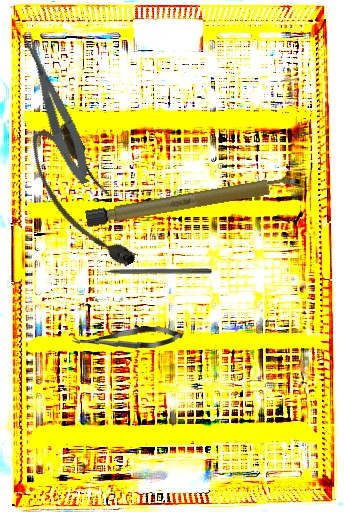Cannula: (19, 116, 146, 283)
Micro Scissor: (16, 27, 97, 189), (71, 325, 184, 352)
Pusher: (88, 267, 212, 274)
Scalpel Handle: (85, 173, 299, 229)
